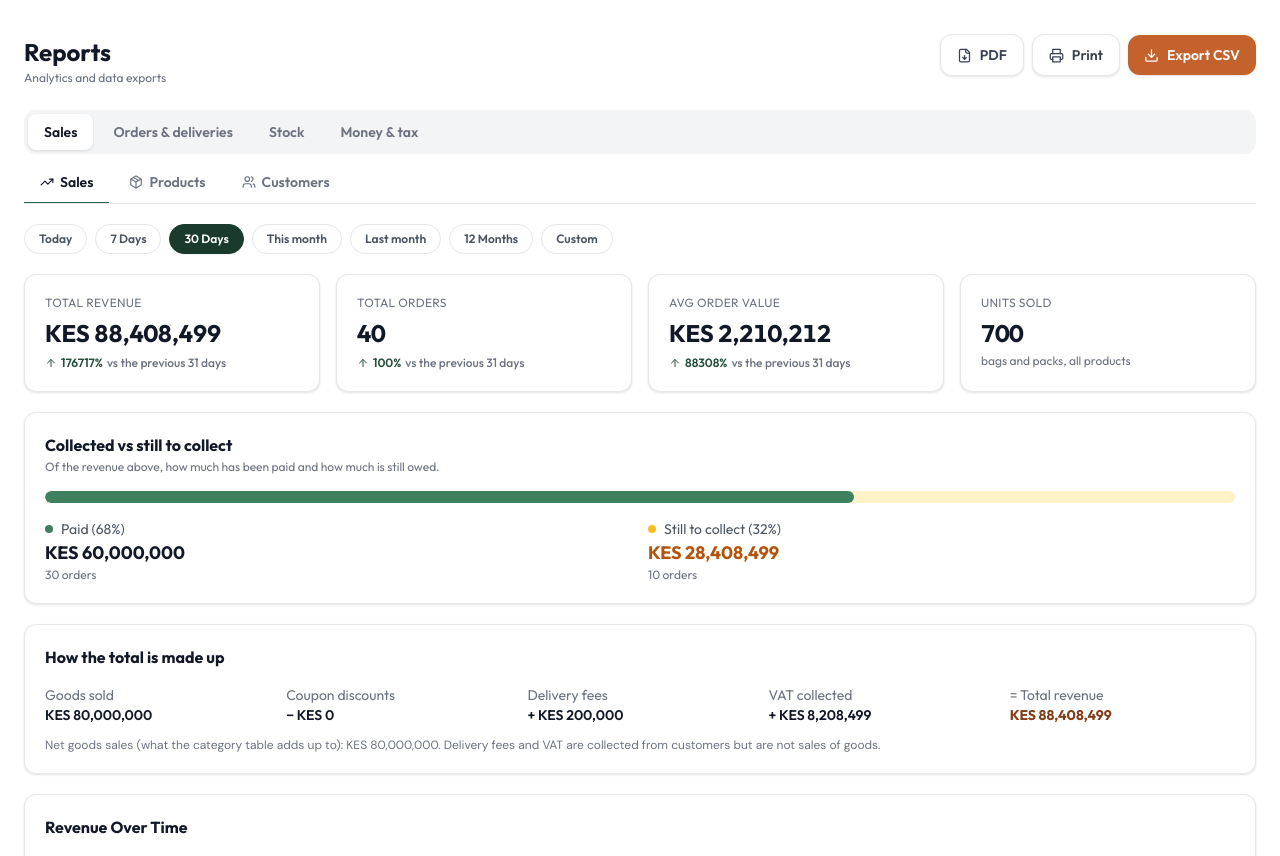
Scenario: Reports page: periods › moves VAT off a rolling window (which would split months) and explains if you go back
Click the button "Money & tax": (379, 132) [324,114,434,150]
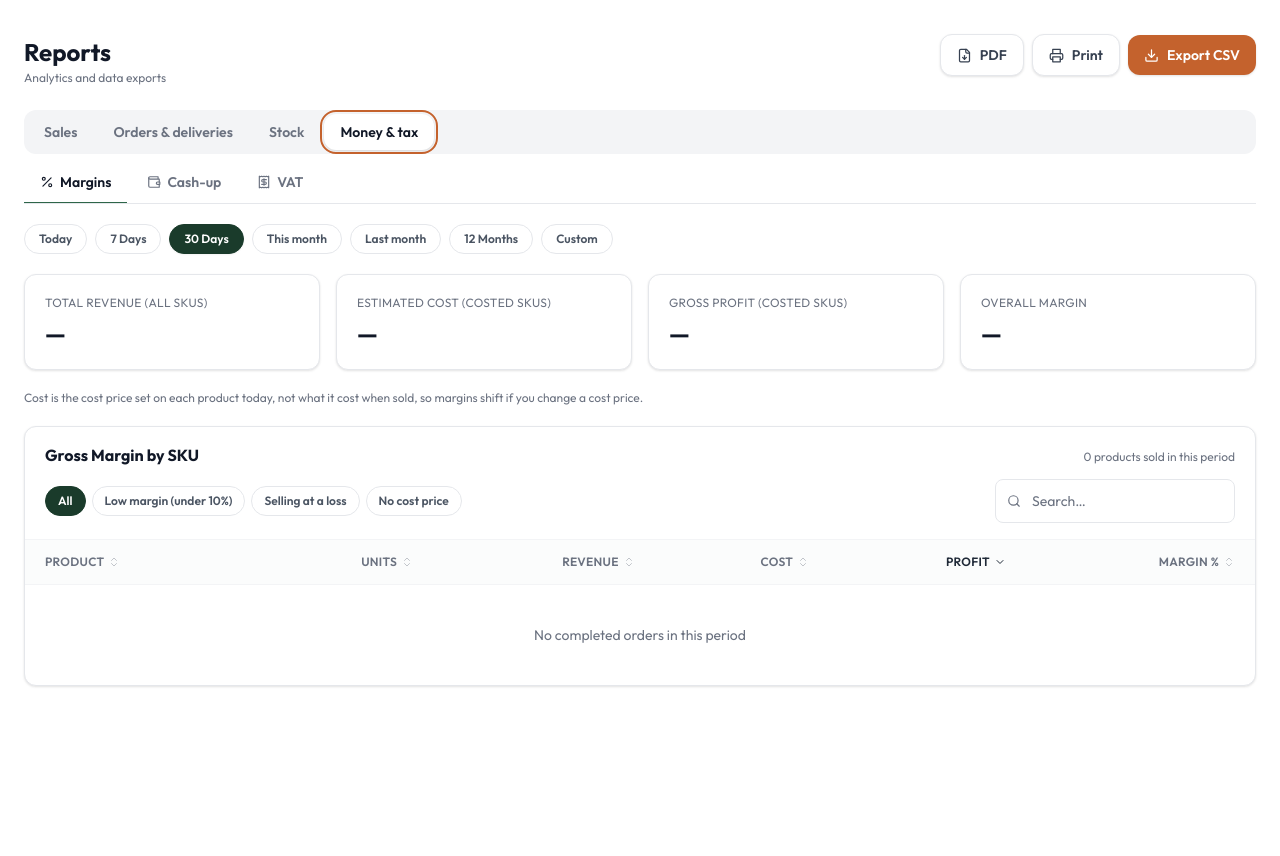
Click the tab "VAT": (280, 183) [241,162,319,204]
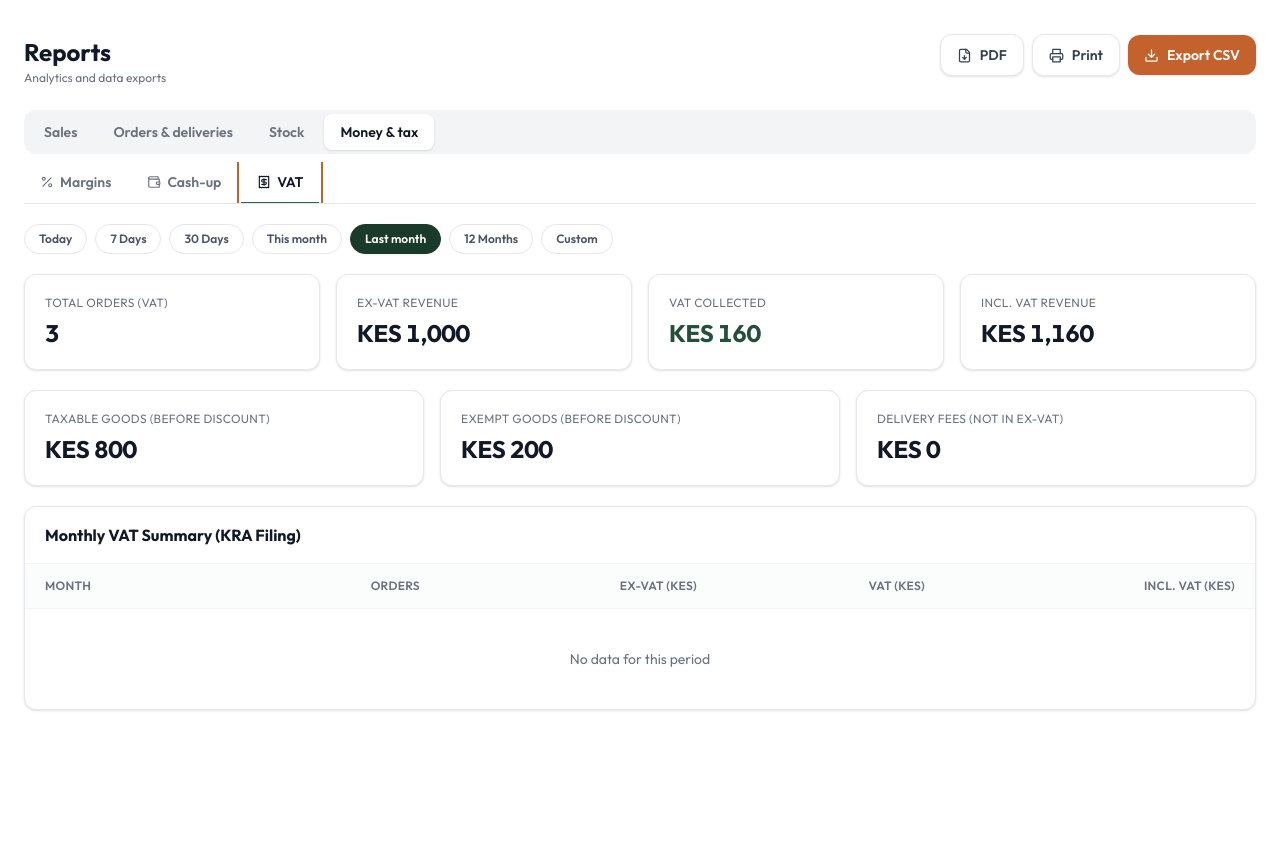
Expected: the text "rolling stretch of days" is not shown
Expected: the button "Last month" is pressed, [350,224,441,254]
Click the button "30 Days": (207, 239) [170,224,244,254]
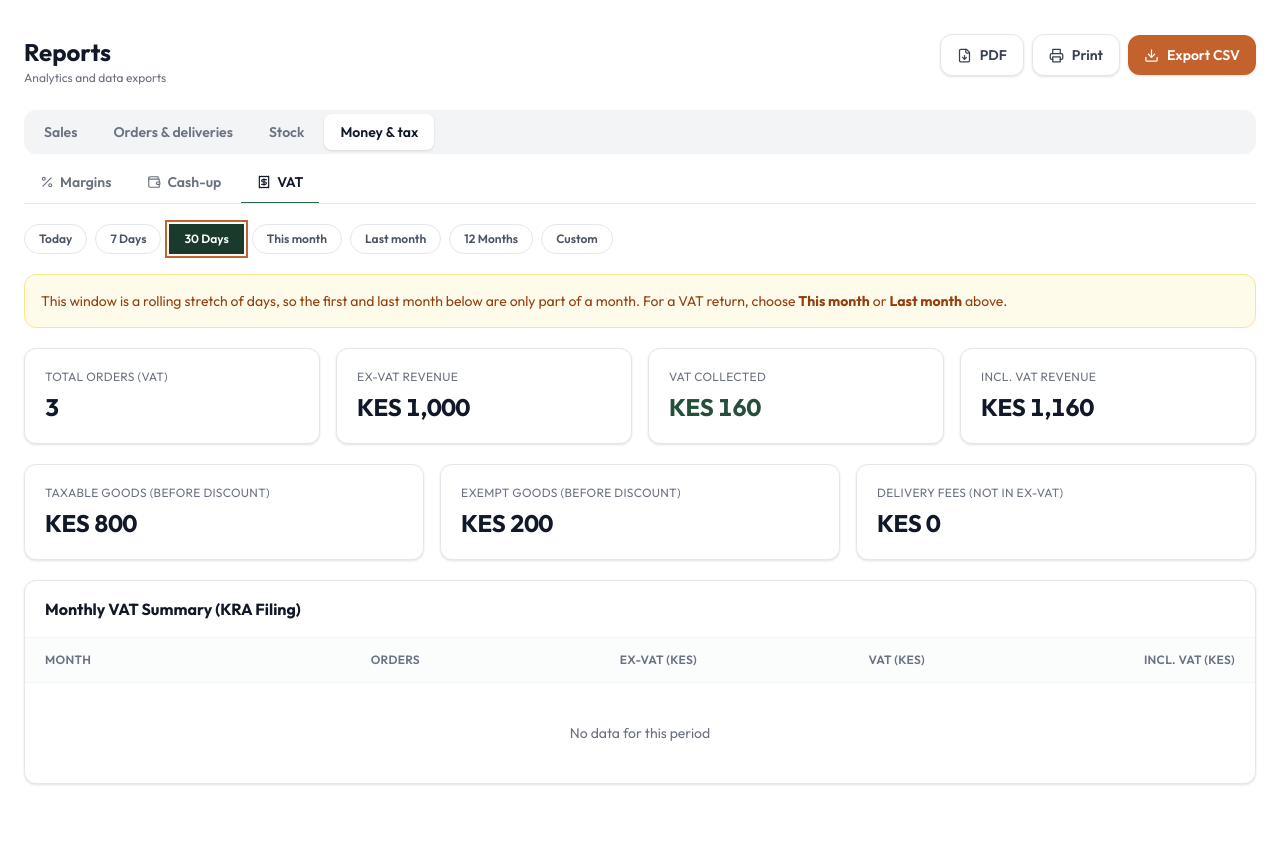
Expected: the text "rolling stretch of days" is shown, [41,292,798,310]
